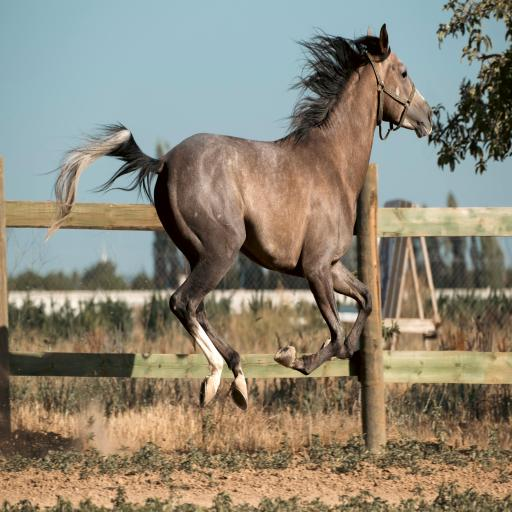horse: (44, 22, 432, 411), (47, 25, 432, 409)
